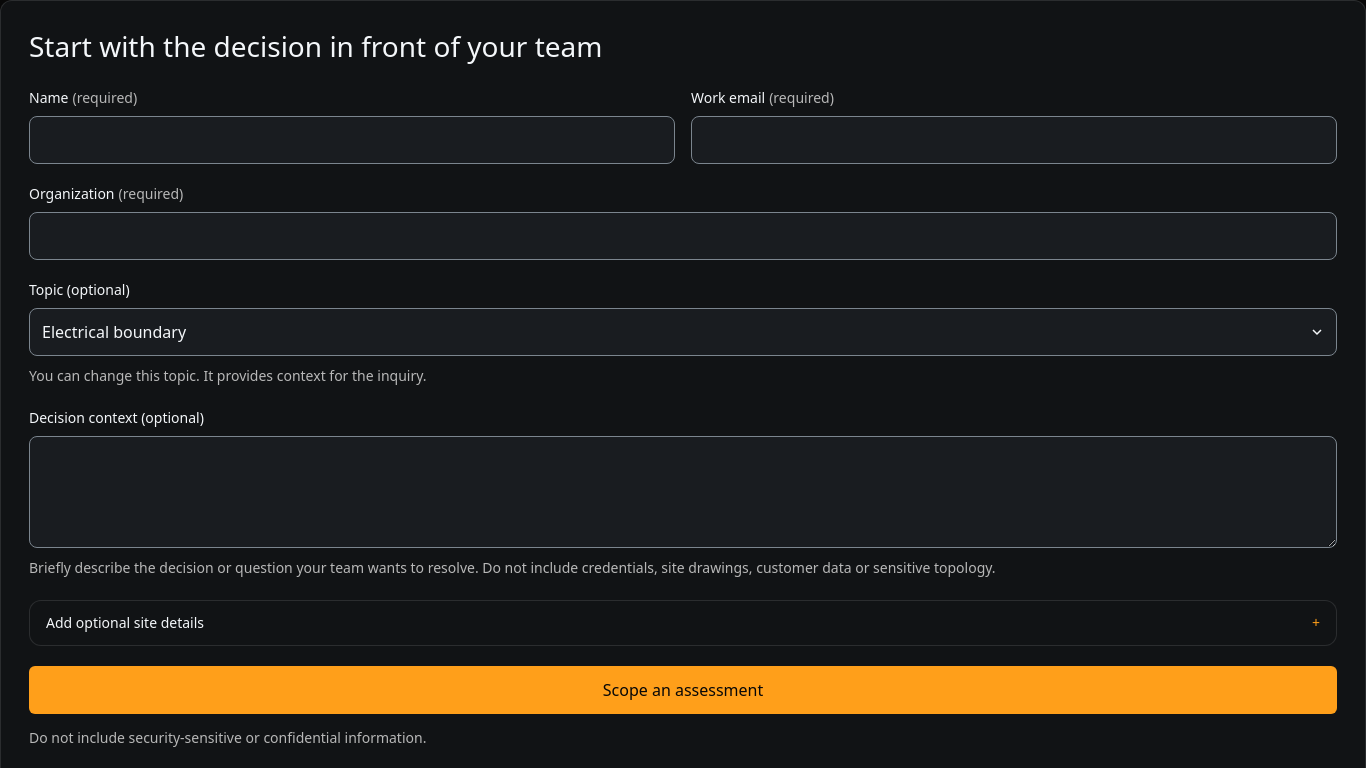
truthful contact intake › keeps new assessment inquiries explicit, with identity first and an editable optional topic
Select "Cooling evidence" in the dropdown labelled "Topic (optional)": (683, 332) top-left (29, 308), bottom-right (1337, 356)
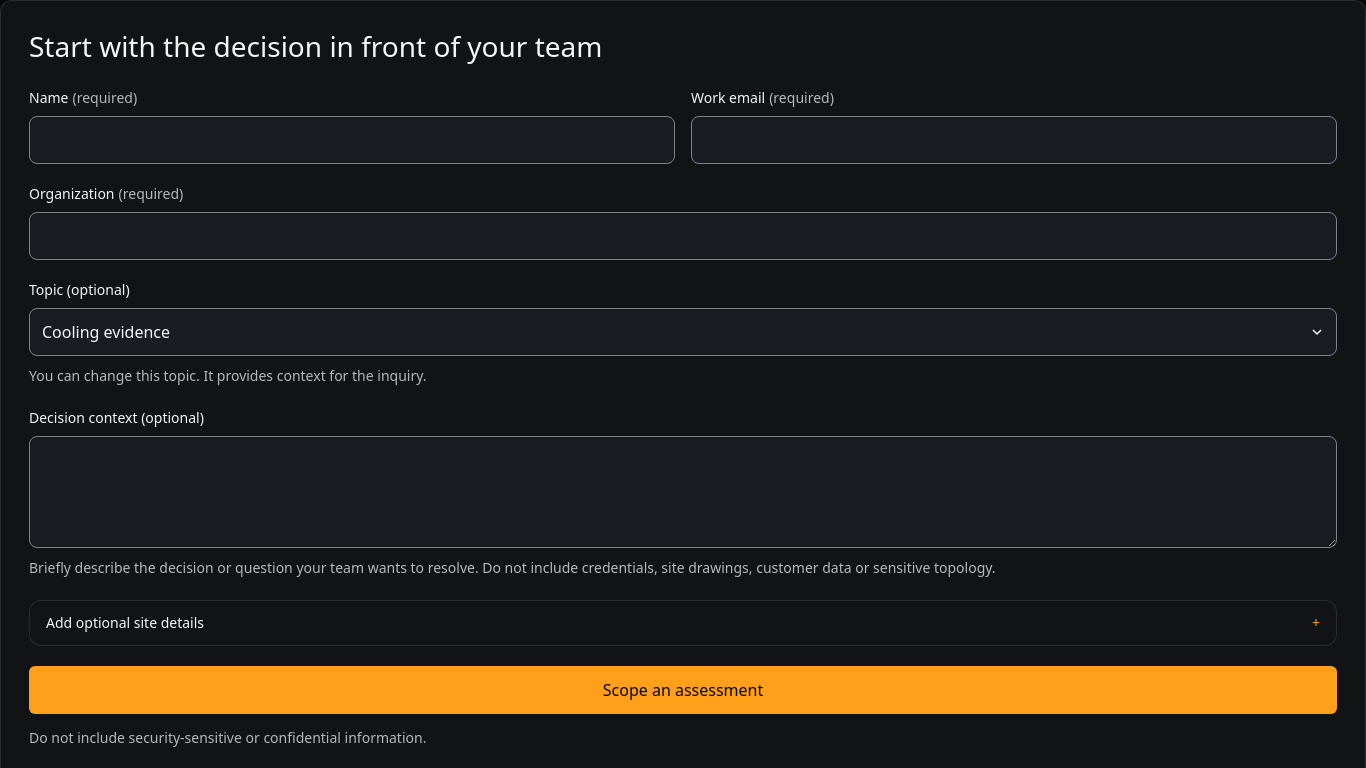
In the field labelled "Name": (352, 140) top-left (29, 116), bottom-right (675, 164), type "Alex Operator"
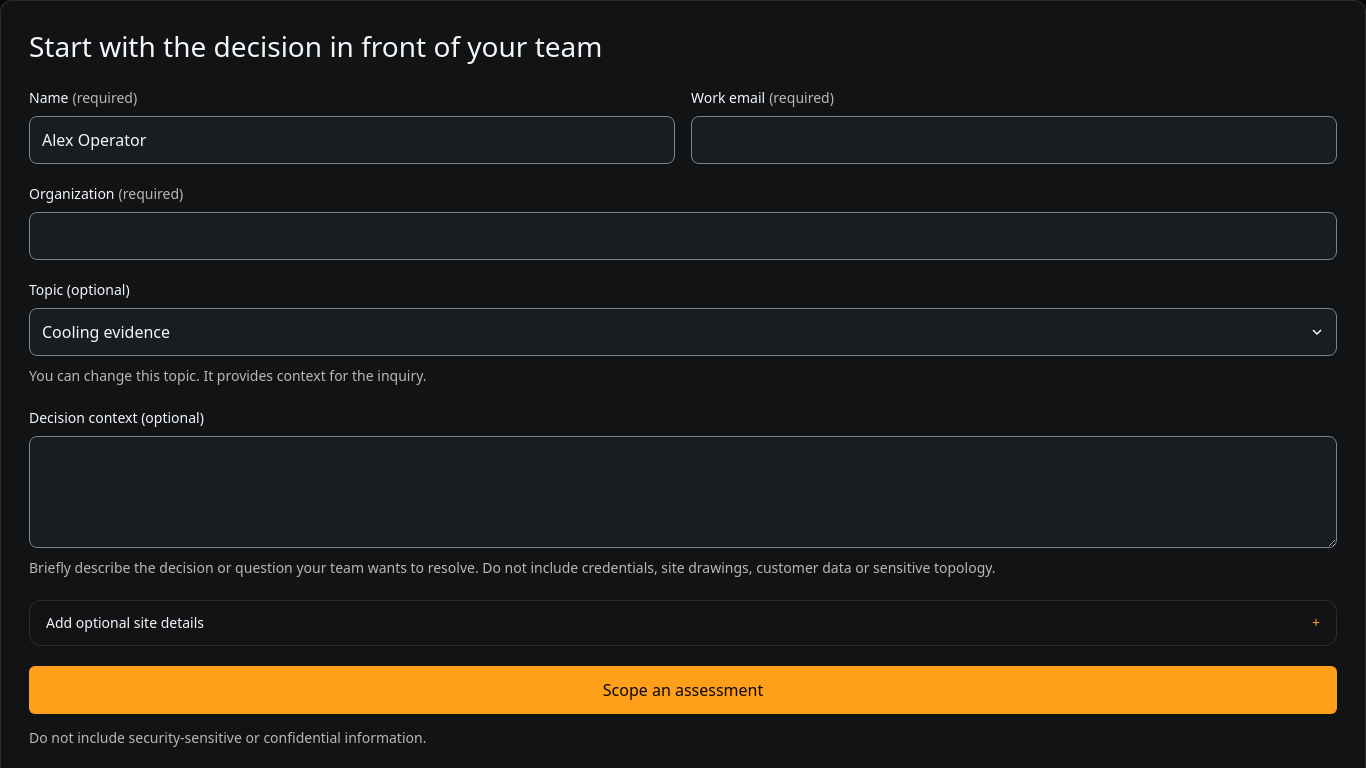
In the field labelled "Work email": (1014, 140) top-left (691, 116), bottom-right (1337, 164), type "alex@example.com"
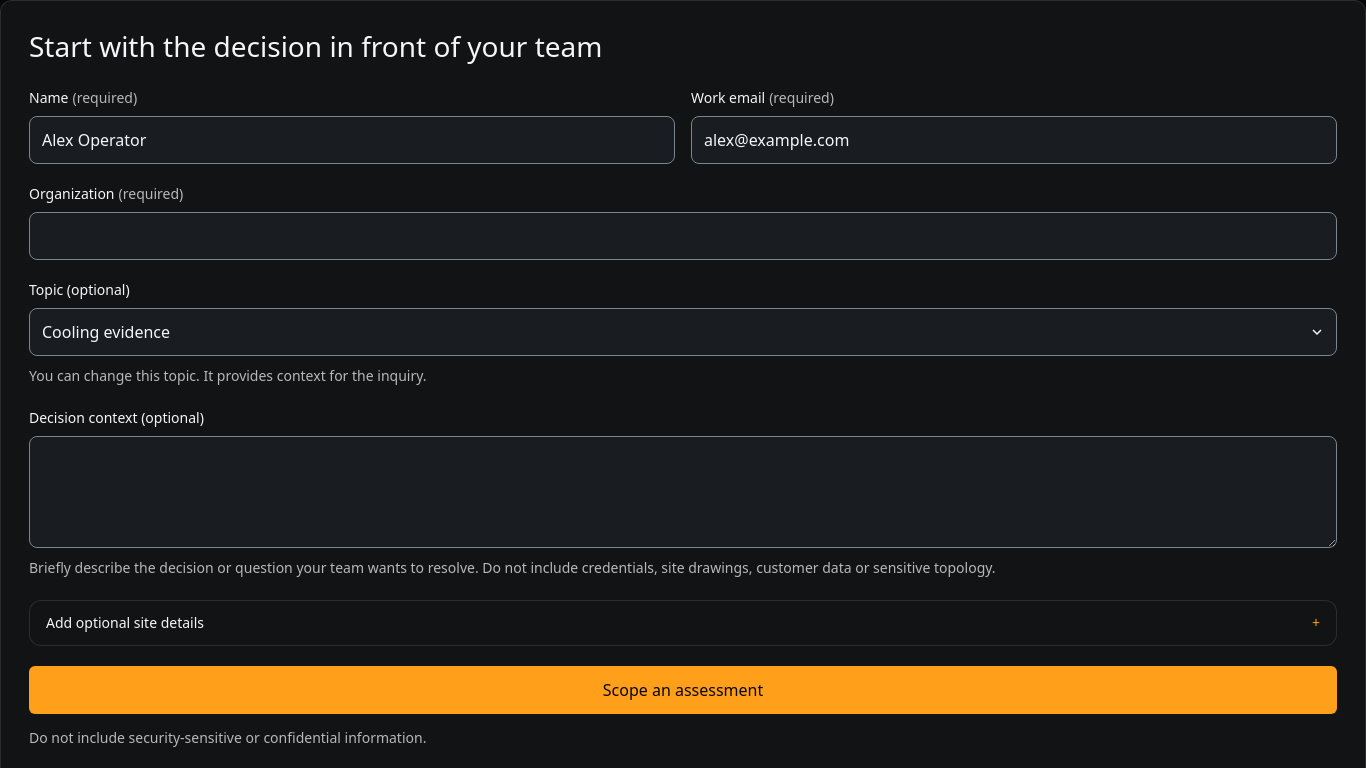
In the field labelled "Organization": (683, 236) top-left (29, 212), bottom-right (1337, 260), type "Example Compute"
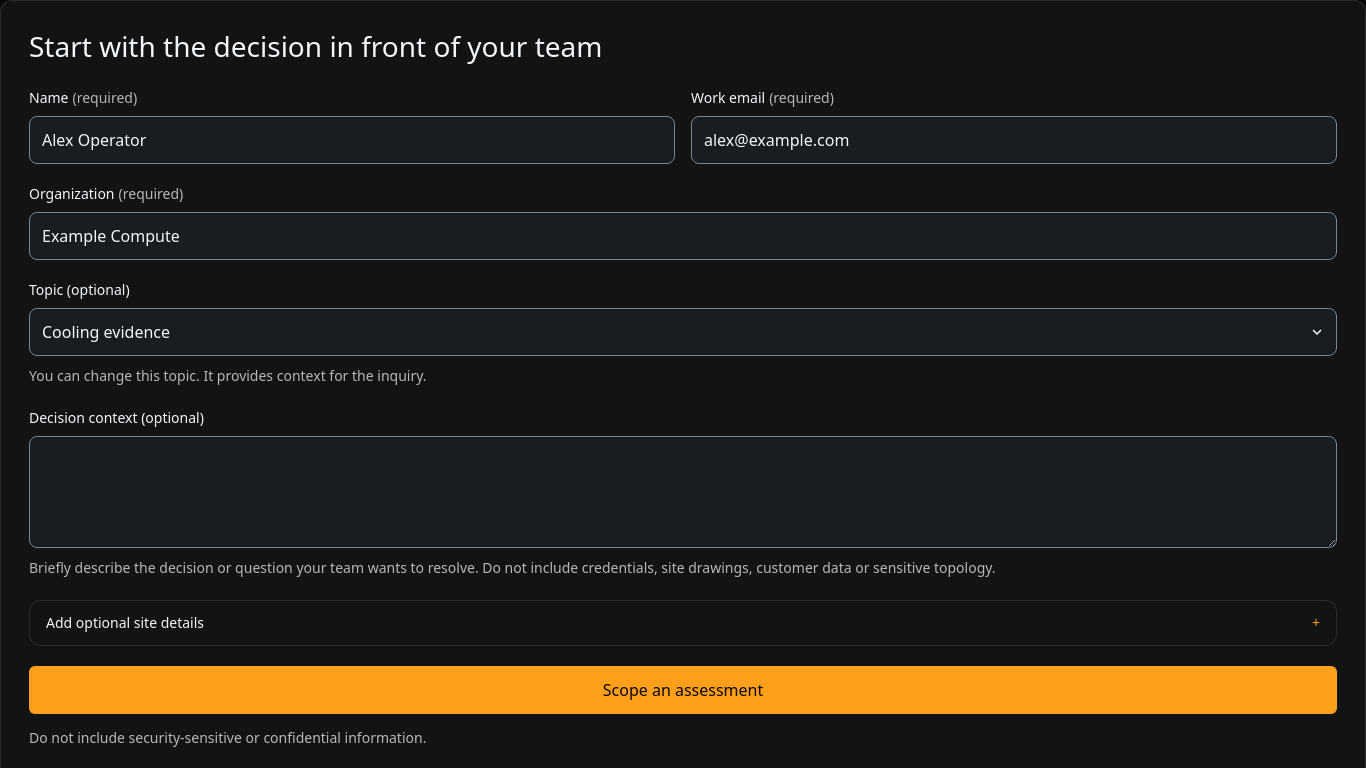
Click the button "Scope an assessment": click(683, 690) top-left (29, 666), bottom-right (1337, 714)
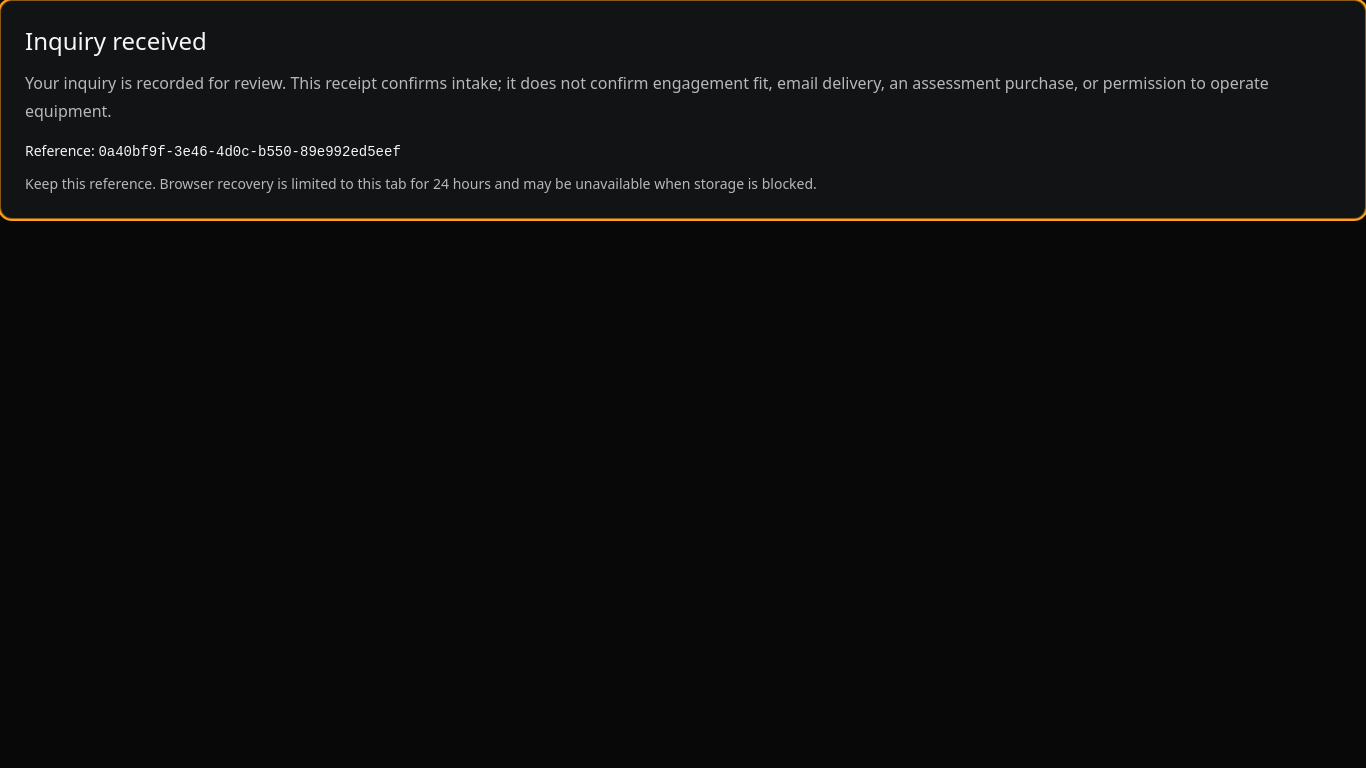
Expected: the heading "Inquiry received" is shown, top-left (25, 24), bottom-right (207, 57)
